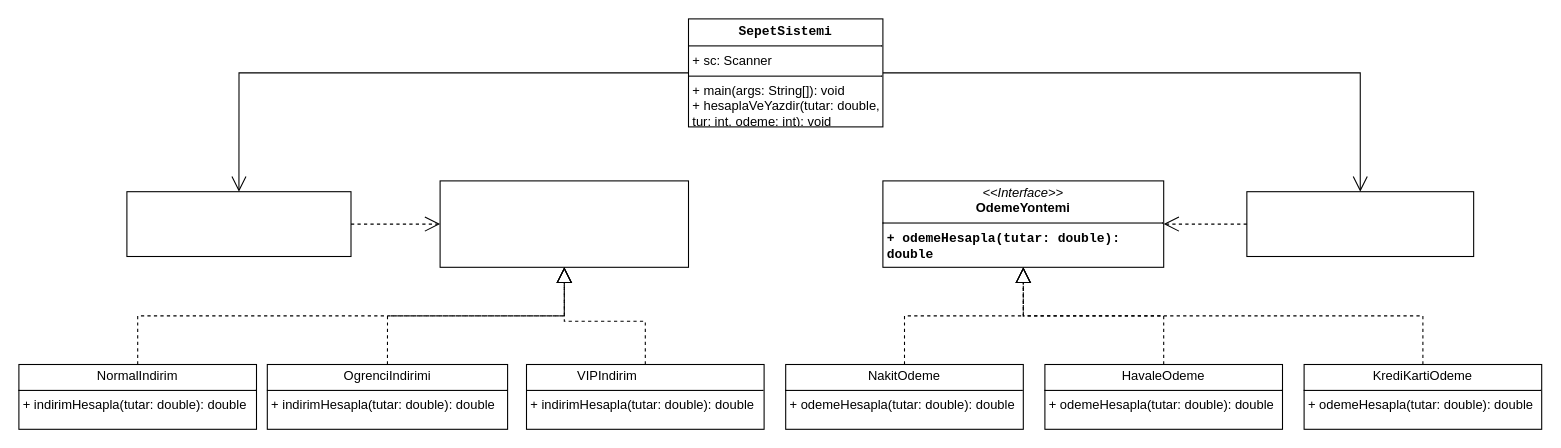
Image size: 1561x448. Some labels were removed from this diagram. Here are the shapes that lost their labels. From the top down, the centre of each, then its label:
At [238,223]: "IndirimFabrikasi + getIndirim(tip: int): IndirimStratejisi".
At [563,223]: "<<Interface>> IndirimStratejisi + indirimHesapla(tutar: double): double".
At [1360,223]: "OdemeFabrikasi + getOdeme(tip: int): OdemeYontemi".
